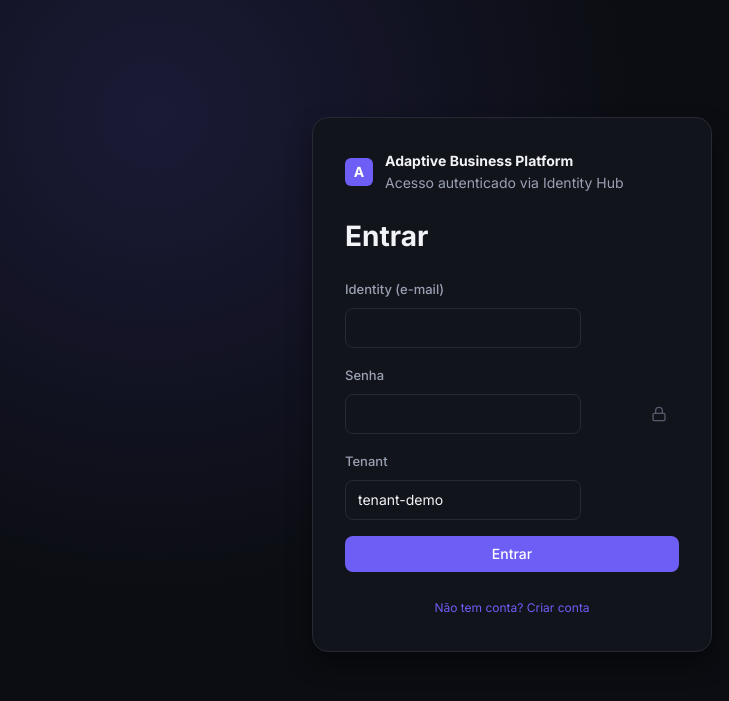
Test: LoginPage › alterna para o modo de registro, envia POST /auth/register e volta ao modo de login com uma mensagem de sucesso
Click the button "Não tem conta? Criar conta" at (512, 607), box [430,596,594,618]
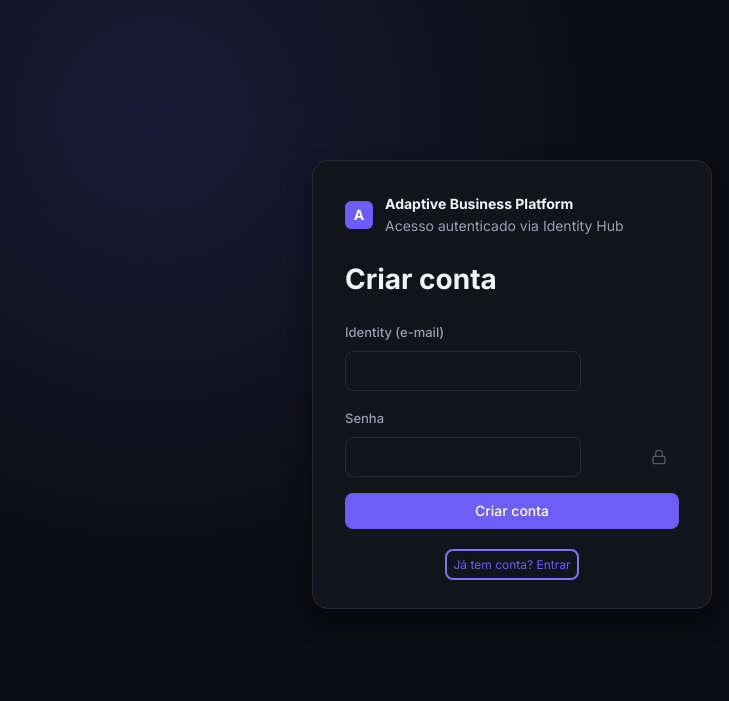
Expected: the heading "Criar conta" is shown, [345,262,497,296]
Type "nova@example.com" into the field labelled "Identity (e-mail)" at (463, 370), box [345,350,581,390]
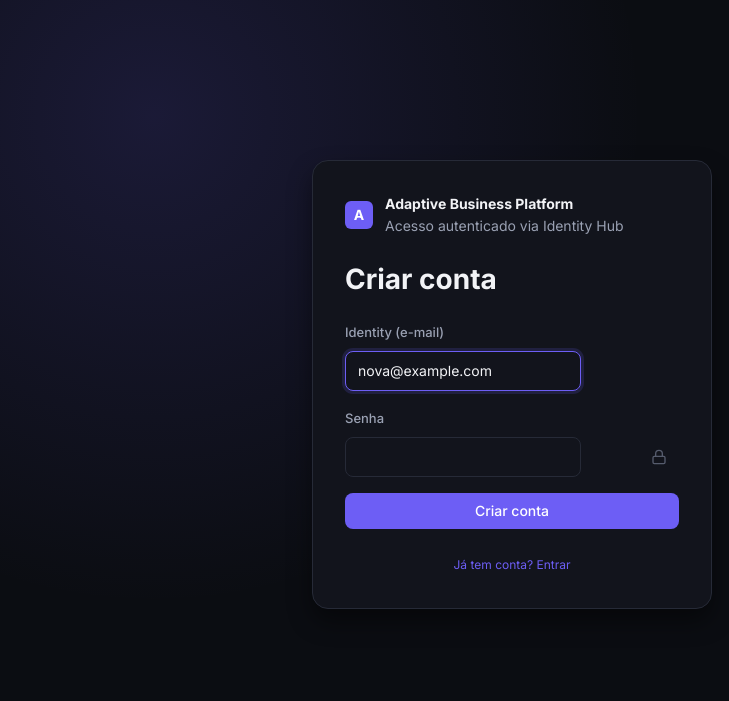
Type "senha-nova-123" into the password field labelled "Senha" at (463, 456), box [345,436,581,476]
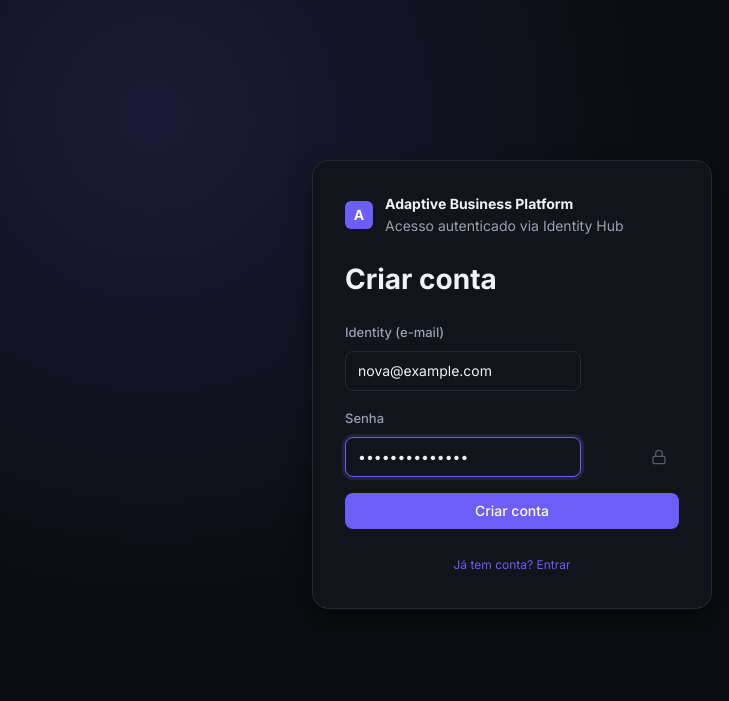
Click the button "Criar conta" at (512, 510), box [345,492,679,528]
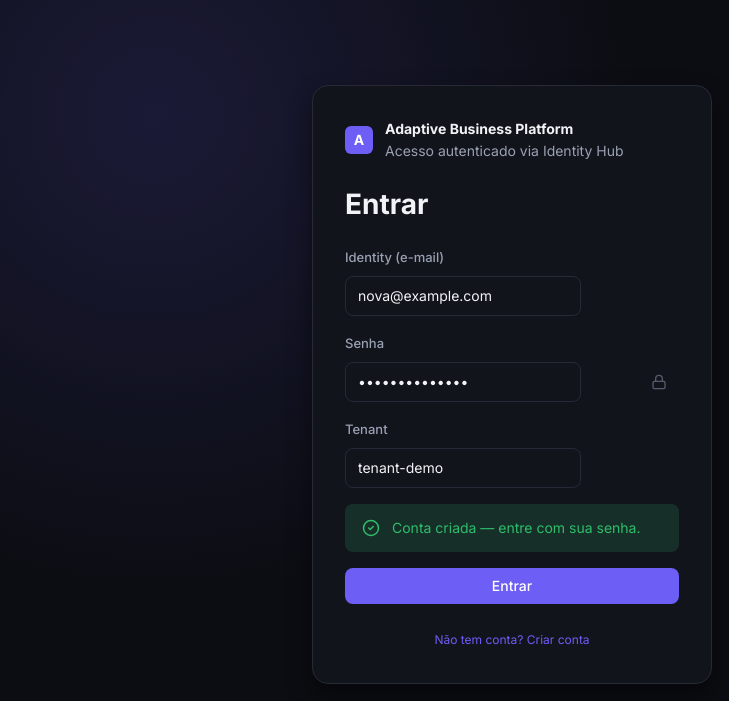
Expected: the heading "Entrar" is shown, [345,186,428,220]
Expected: the text "Conta criada — entre com sua senha." is shown, [392,516,662,538]
